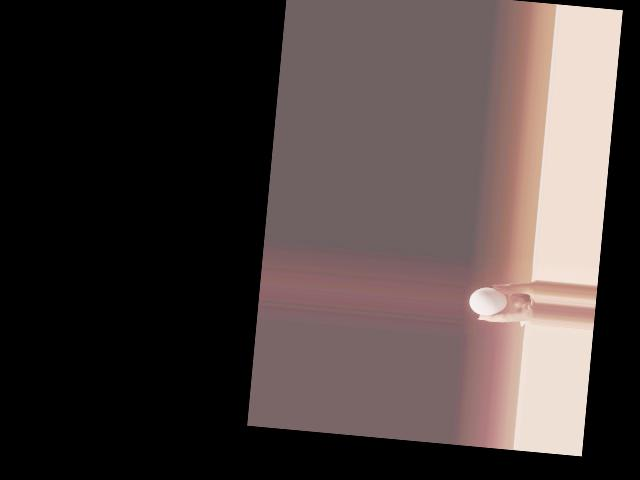egg: (468, 285, 508, 317)
